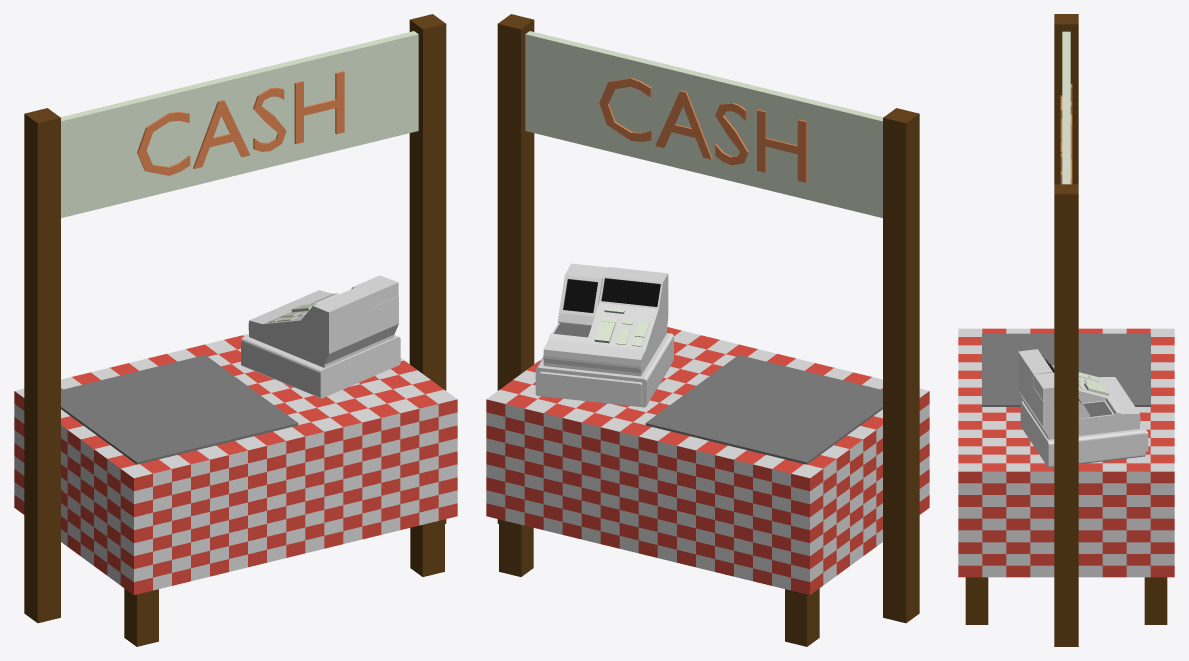
Rendered from cash_table.fbx.
The picture shows the model from 3 angles, left to right: view 1: azimuth 30°, elevation 25°; view 2: azimuth 150°, elevation 25°; view 3: azimuth 270°, elevation 25°; orthographic projection. The views are drawn at different scales.
Visible parts, largest first — view 1: table, mark, base; view 2: table, mark, base; view 3: table, mark, base.
Part boxes in pixels (box(x1,y1,x2,y2)): table: box(14, 333, 457, 646); mark: box(24, 14, 446, 623); base: box(241, 275, 400, 398); table: box(486, 327, 929, 646); mark: box(497, 14, 919, 623); base: box(535, 263, 673, 407); table: box(958, 328, 1174, 624); mark: box(1054, 14, 1078, 646); base: box(1018, 349, 1148, 467).
Size of the model in its own units: 1060 by 1240 by 537.
